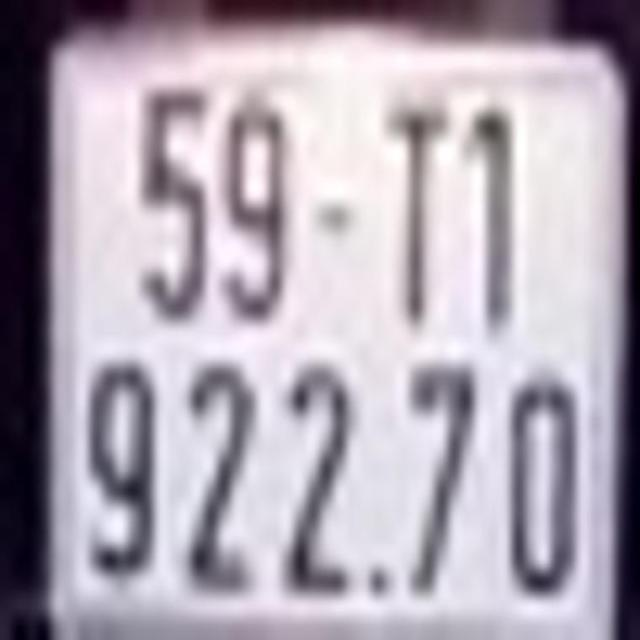0: (508, 377, 578, 594)
1: (465, 108, 518, 331)
2: (286, 364, 351, 596), (188, 364, 252, 593)
5: (140, 88, 209, 320)
7: (407, 363, 476, 594)
9: (87, 362, 156, 577), (224, 104, 285, 320)
T: (388, 110, 450, 324)
